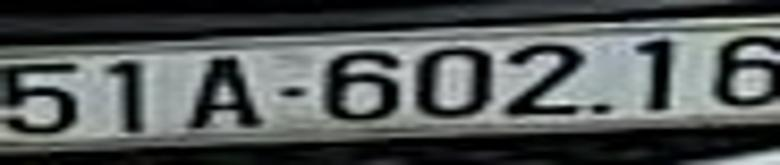-: (275, 87, 306, 97)
.: (592, 101, 616, 113)
0: (418, 50, 490, 120)
1: (106, 59, 146, 137), (638, 39, 671, 116)
2: (507, 45, 580, 117)
5: (0, 64, 79, 134)
6: (320, 52, 400, 125), (719, 36, 780, 112)
A: (191, 58, 262, 129)
